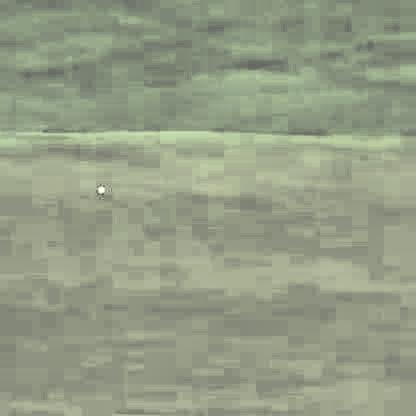golfball: (94, 180, 104, 191)
